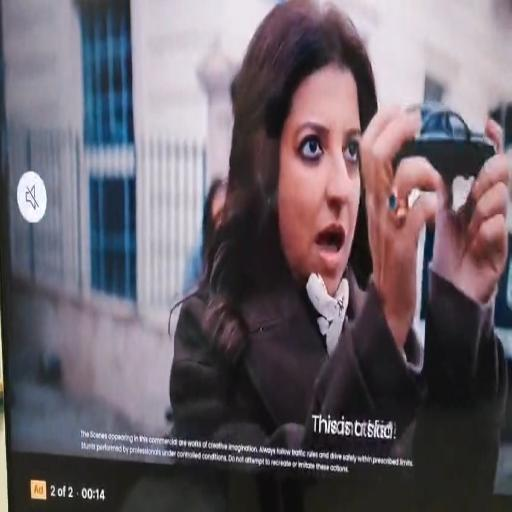ad label: (29, 476, 47, 501)
